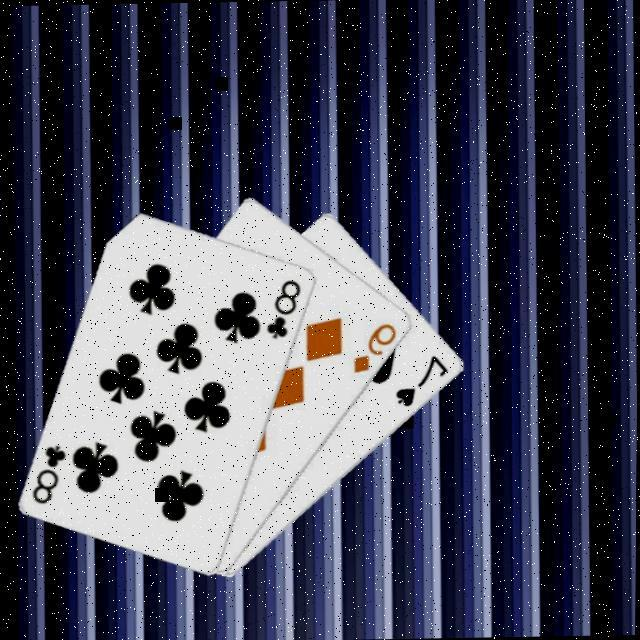7S: (391, 352, 452, 412)
8C: (27, 442, 70, 508), (262, 278, 304, 344)
9D: (348, 320, 399, 378)
